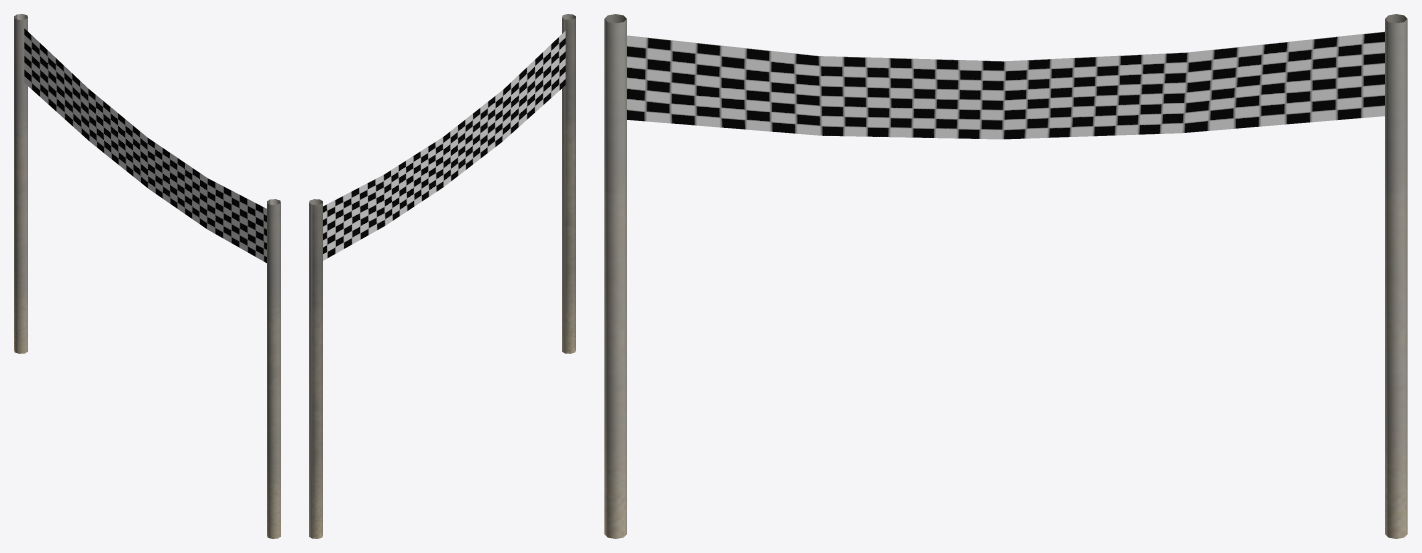
Rendered from decorations.obj.
3 views of the same model, side by side, from view 1: azimuth 30°, elevation 25°; view 2: azimuth 150°, elevation 25°; view 3: azimuth 270°, elevation 25° (orthographic). The views are drawn at different scales.
Visible parts, largest first — view 1: pole; view 2: pole; view 3: pole.
Boxes of the visible parts, x1,y1,x2,y2 form: pole: (14, 14, 280, 538); pole: (309, 14, 575, 538); pole: (604, 14, 1407, 538).
Bounding box in the file's own units: 0.325 × 8.23 × 11.62.
Materials: 1 (1 with a texture image).
